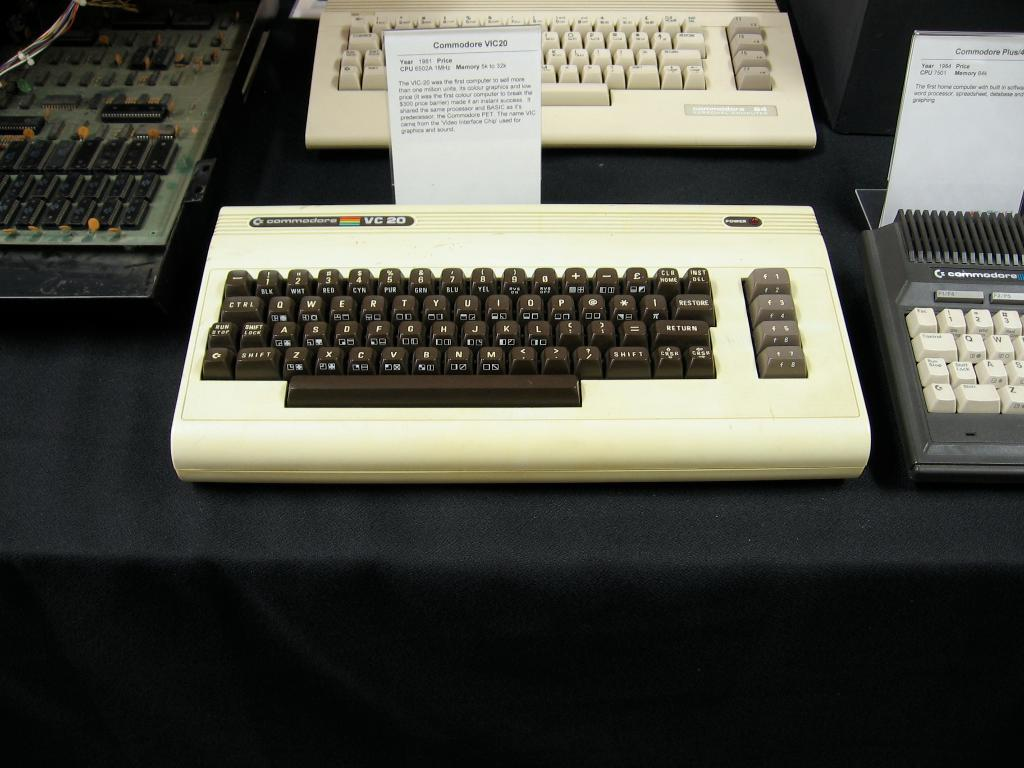Computer-keyboard: (169, 200, 863, 475), (303, 0, 813, 147), (856, 192, 1023, 479)
